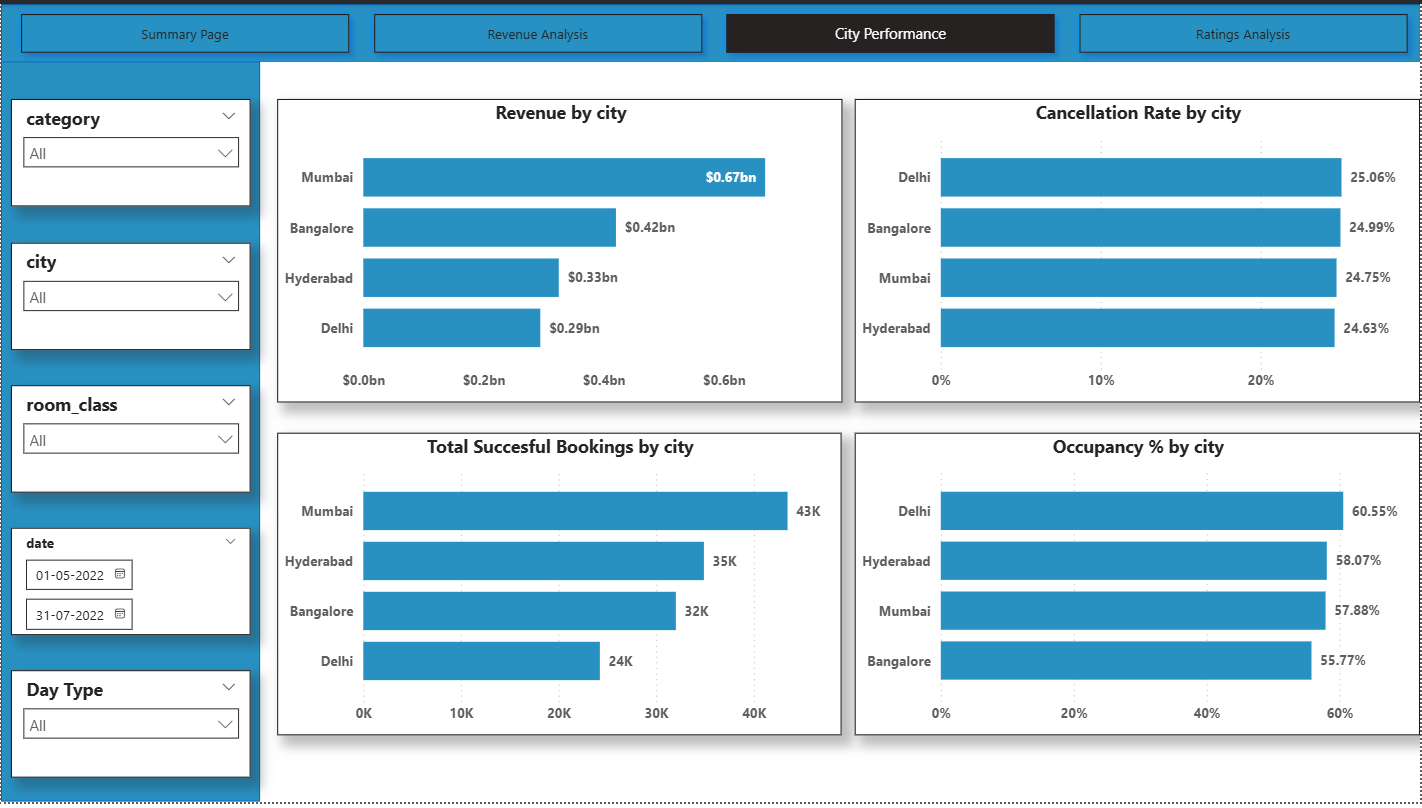

This screenshot's page, from the dashboard's own definition file:
{"tool":"powerbi","page":{"name":"City Performance","canvas":[1280,720],"ordinal":2},"visuals":[{"type":"shape","box":[0,0,1280.2,52.3],"z":0},{"type":"shape","box":[0,52.3,233.7,667.4],"z":1000},{"type":"slicer","fields":{"Values":["dim_hotels.category"]},"box":[9.3,86,216.3,96.5],"z":2000},{"type":"slicer","fields":{"Values":["dim_hotels.city"]},"box":[9.3,214.8,216.3,96.5],"z":3000},{"type":"slicer","fields":{"Values":["dim_rooms.room_class"]},"box":[9.3,343.6,216.3,96.5],"z":4000},{"type":"slicer","fields":{"Values":["dim_date.date"]},"box":[9.3,472.4,216.3,96.5],"z":5000},{"type":"slicer","fields":{"Values":["dim_date.day_type"]},"box":[9.3,601.2,216.3,96.5],"z":6000},{"type":"clusteredBarChart","fields":{"Y":["Measure Table.Revenue"],"Category":["dim_hotels.city"]},"box":[249.5,86,509.9,273.7],"z":7000},{"type":"clusteredBarChart","fields":{"Y":["Measure Table.Total Succesful Bookings"],"Category":["dim_hotels.city"]},"box":[249.5,386.4,509,273],"z":8000},{"type":"clusteredBarChart","fields":{"Y":["Measure Table.Cancellation Rate"],"Category":["dim_hotels.city"]},"box":[770.1,86,509.9,273.7],"z":9000},{"type":"barChart","fields":{"Category":["dim_hotels.city"],"Y":["Measure Table.Occupancy %"]},"box":[770.3,386.4,509.9,272.5],"z":10000},{"type":"pageNavigator","box":[8.7,0,1271.3,53.5],"z":11000}]}

Visuals, with their boxes in screenshot pixels (x1, y1, x2, y2), scaled from the page's 1280x720 canvas onto the 1422x808 screenshot:
shape: rect(0, 0, 1421, 59)
shape: rect(0, 59, 260, 807)
slicer - dim_hotels.category: rect(10, 97, 251, 205)
slicer - dim_hotels.city: rect(10, 241, 251, 349)
slicer - dim_rooms.room_class: rect(10, 386, 251, 494)
slicer - dim_date.date: rect(10, 530, 251, 638)
slicer - dim_date.day_type: rect(10, 675, 251, 783)
clusteredBarChart - Measure Table.Revenue x dim_hotels.city: rect(277, 97, 844, 404)
clusteredBarChart - Measure Table.Total Succesful Bookings x dim_hotels.city: rect(277, 434, 843, 740)
clusteredBarChart - Measure Table.Cancellation Rate x dim_hotels.city: rect(856, 97, 1421, 404)
barChart - dim_hotels.city x Measure Table.Occupancy %: rect(856, 434, 1421, 739)
pageNavigator: rect(10, 0, 1421, 60)
